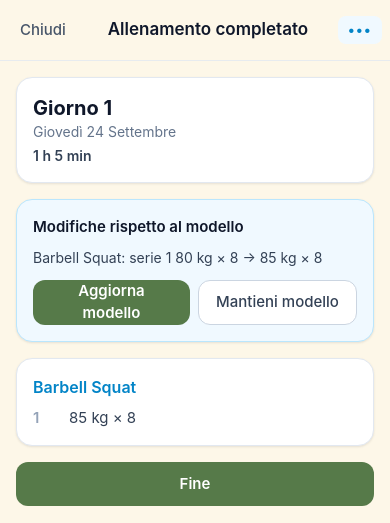
Test case: WorkoutDetailPage › hides the diff when the user keeps the template
Step 1. Click the button "Mantieni modello" → (278, 302), box [198,280,357,324]
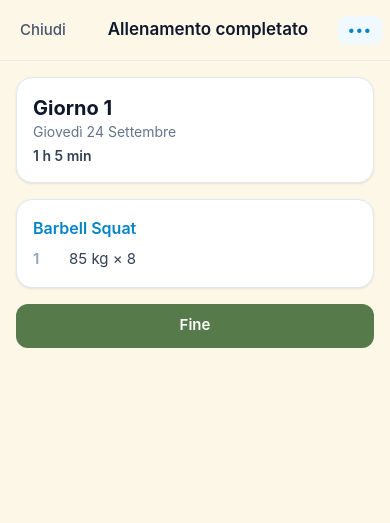
Expected: the button "Aggiorna modello" is gone
